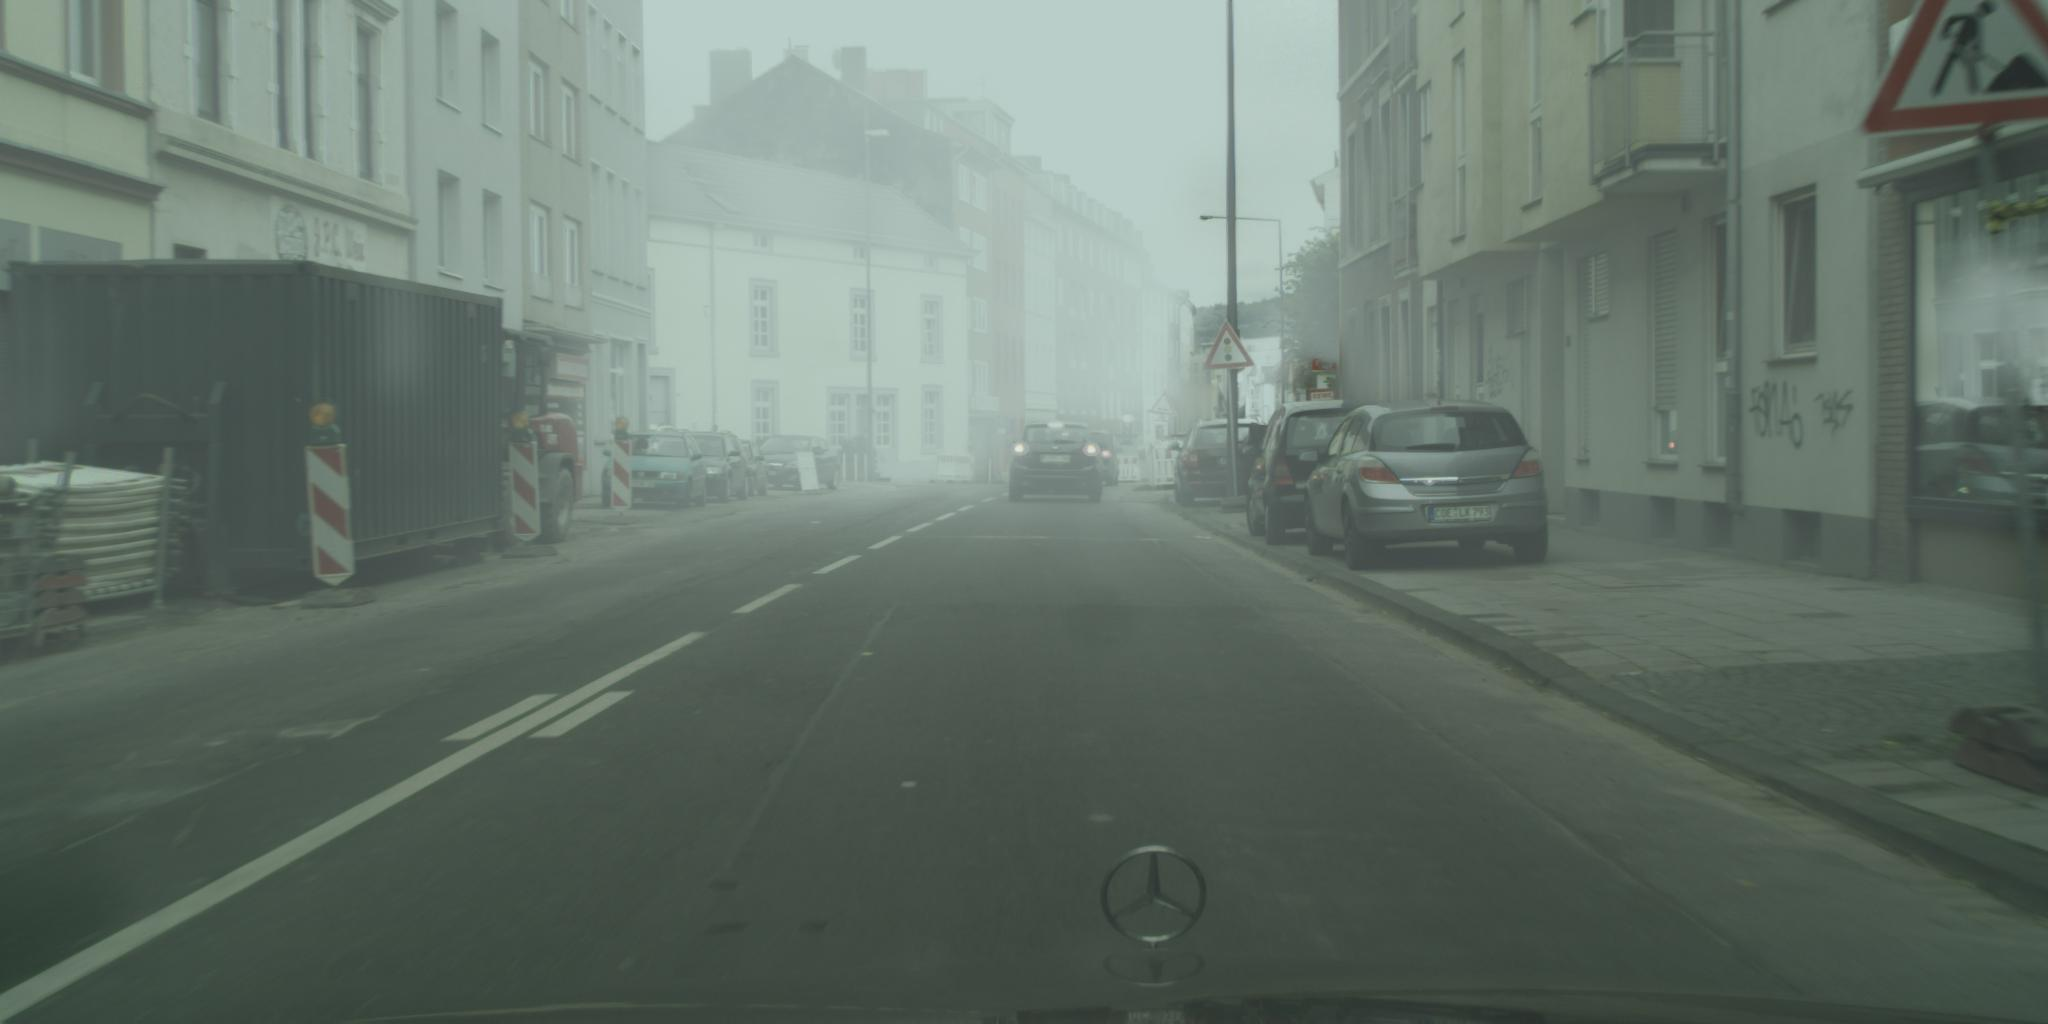car: (1297, 398, 1550, 571), (1243, 400, 1395, 546), (1169, 417, 1281, 508), (1176, 417, 1273, 509), (1006, 419, 1105, 503), (602, 432, 708, 509), (669, 428, 752, 503), (758, 436, 842, 490), (1081, 428, 1125, 487), (733, 440, 771, 498), (650, 424, 679, 432)
truck: (3, 260, 585, 597)
